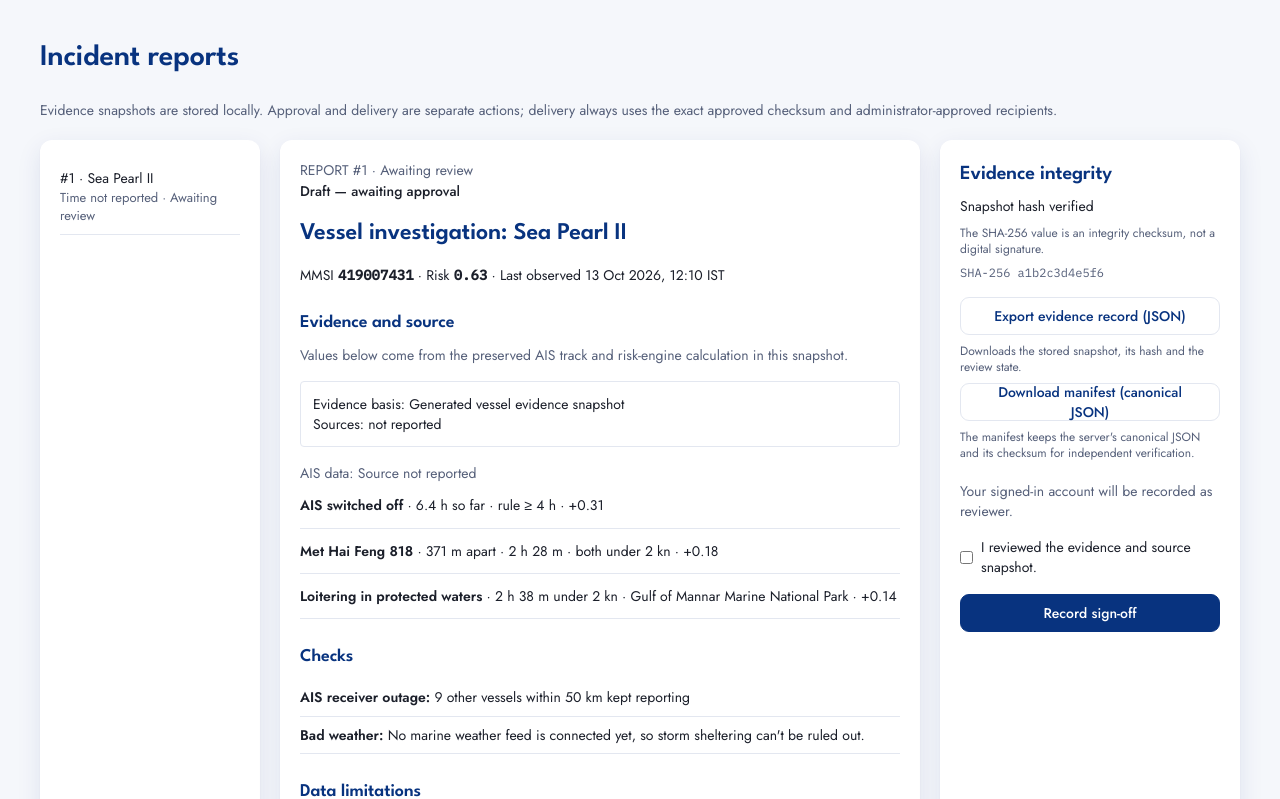
Test: Cases / EvidencePage & ReportsPage › keeps report on screen with readable message when sign-off rejected with non-string detail, allowing a retry
Click the checkbox labelled "I reviewed the evidence and source snapshot." at (966, 558), box [960,537,973,578]
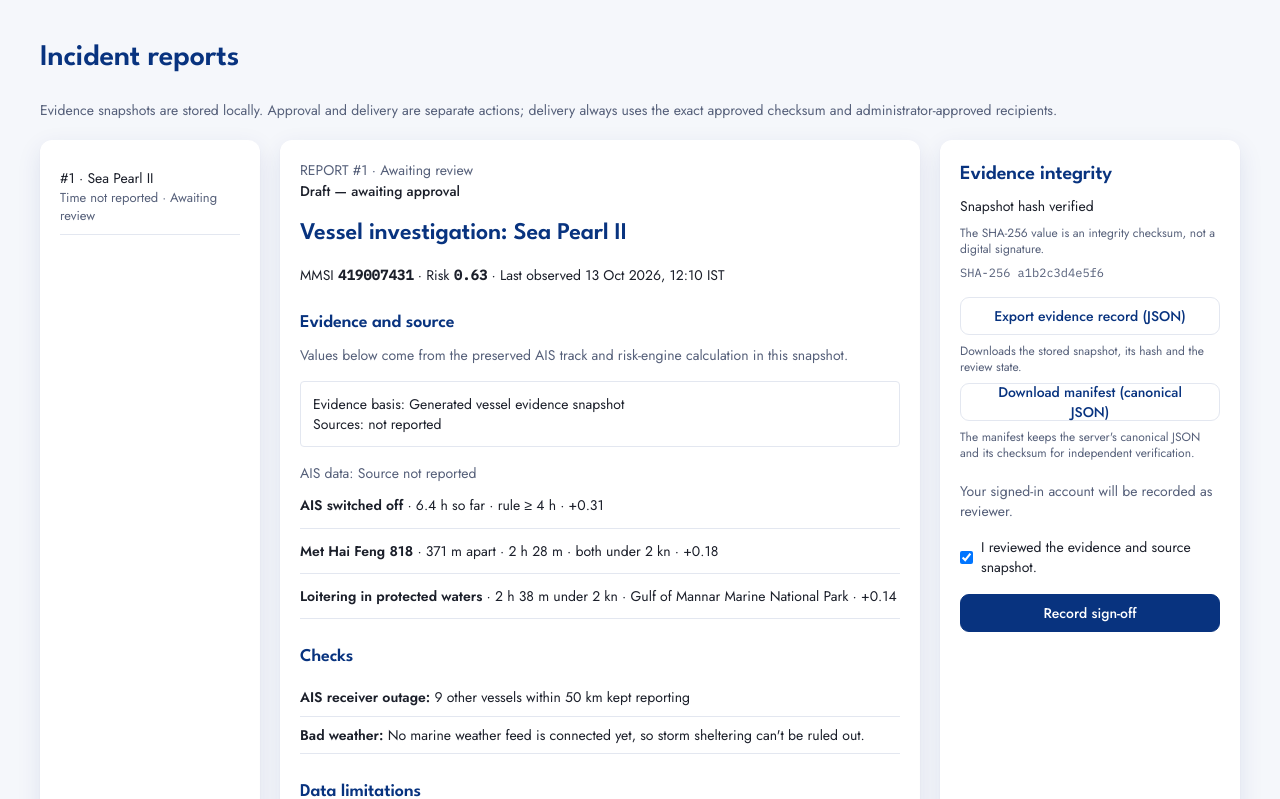
Click the button "Record sign-off" at (1090, 613), box [960,594,1220,632]
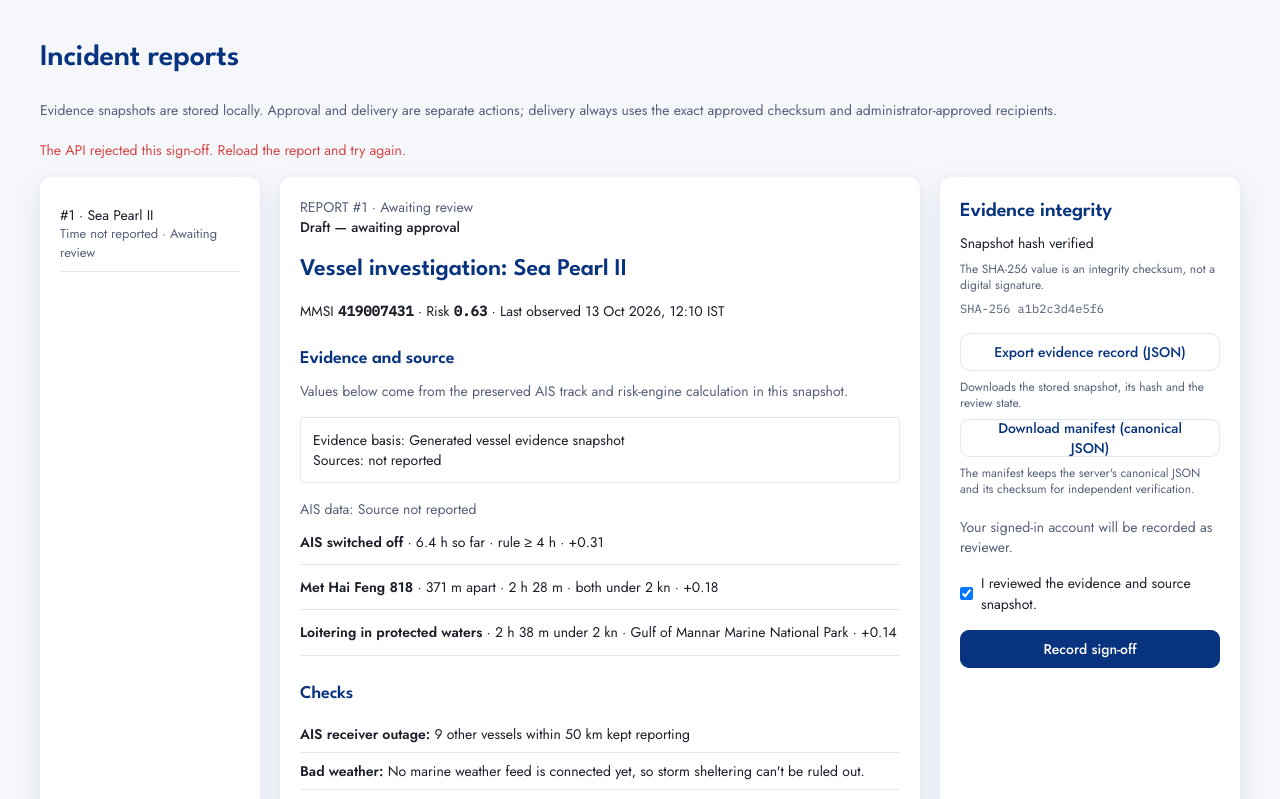
Check: the heading "Vessel investigation: Sea Pearl II" is shown, box [300,258,627,280]
Check: the message reads "The API rejected this sign-off. Reload the report and try again.", box [40,140,406,160]
Click the button "Record sign-off" at (1090, 649), box [960,630,1220,668]
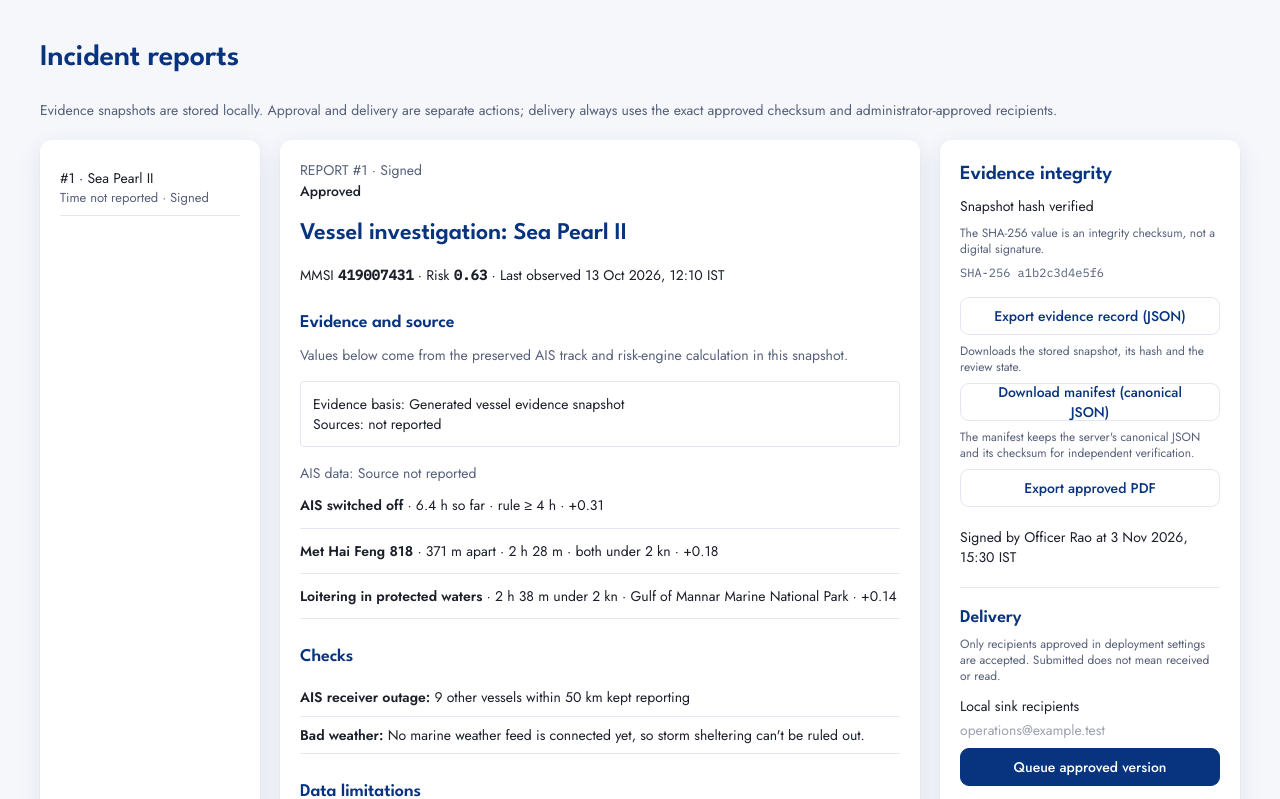
Check: the text "The API rejected this sign-off" is gone
